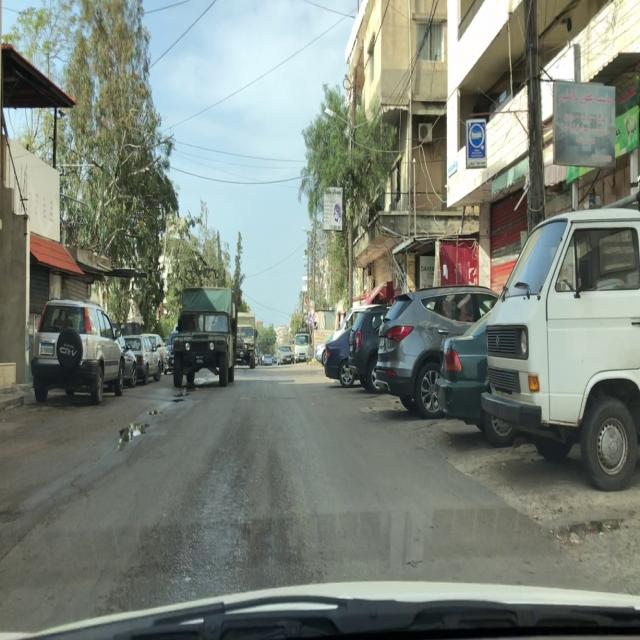Pothole: (554, 513, 630, 554)
